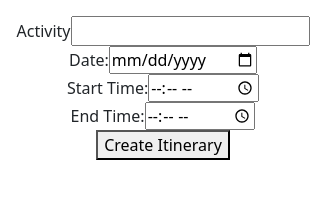
Test: CreateItinerary Component › displays an error message when no date is provided
Type "Test Activity" into the field at (190, 31), box [70,16,310,46]
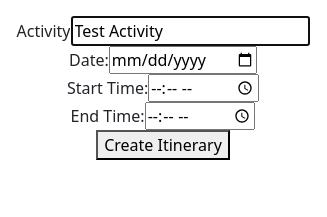
Click the button at (163, 145), box [96,130,230,160]
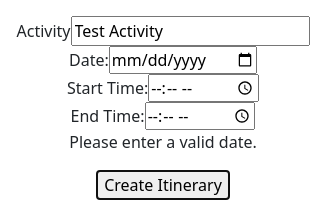
Expected: the text "Please enter a valid date." is shown, [69,131,257,153]
